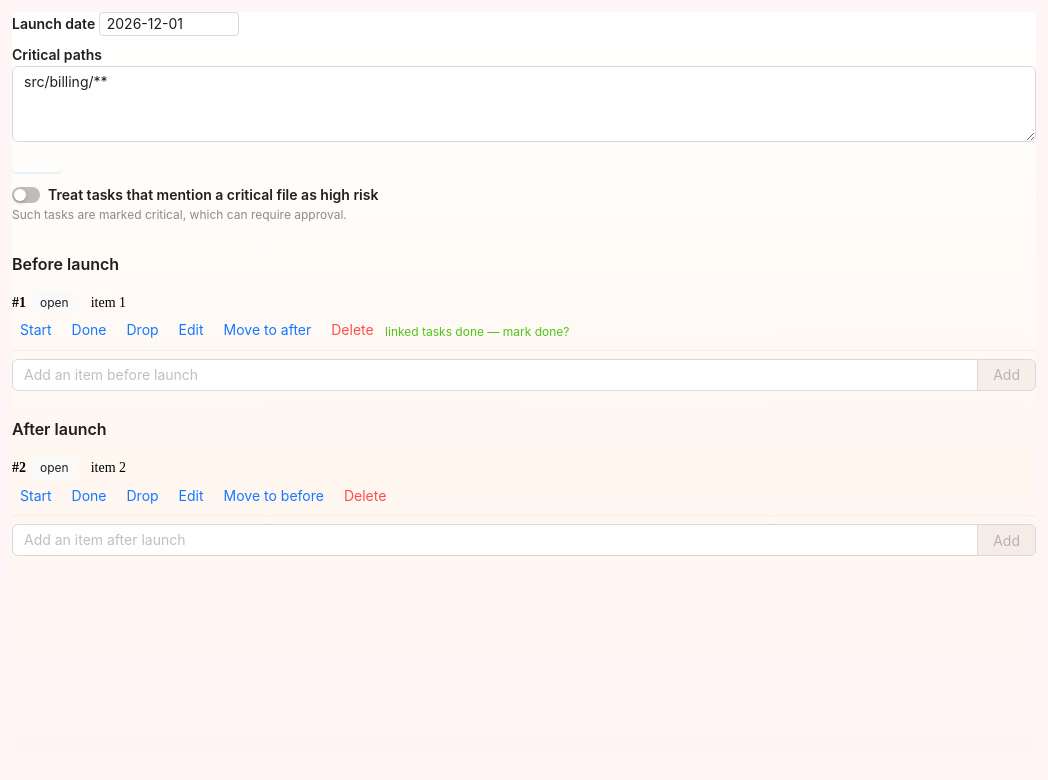
LaunchTab › a 409 reloads and shows the message
The width and height of the screenshot is (1048, 780).
Click the button "Done" in the row of "linked tasks done — mark done?". click: (89, 330)
box: [64, 318, 114, 342]
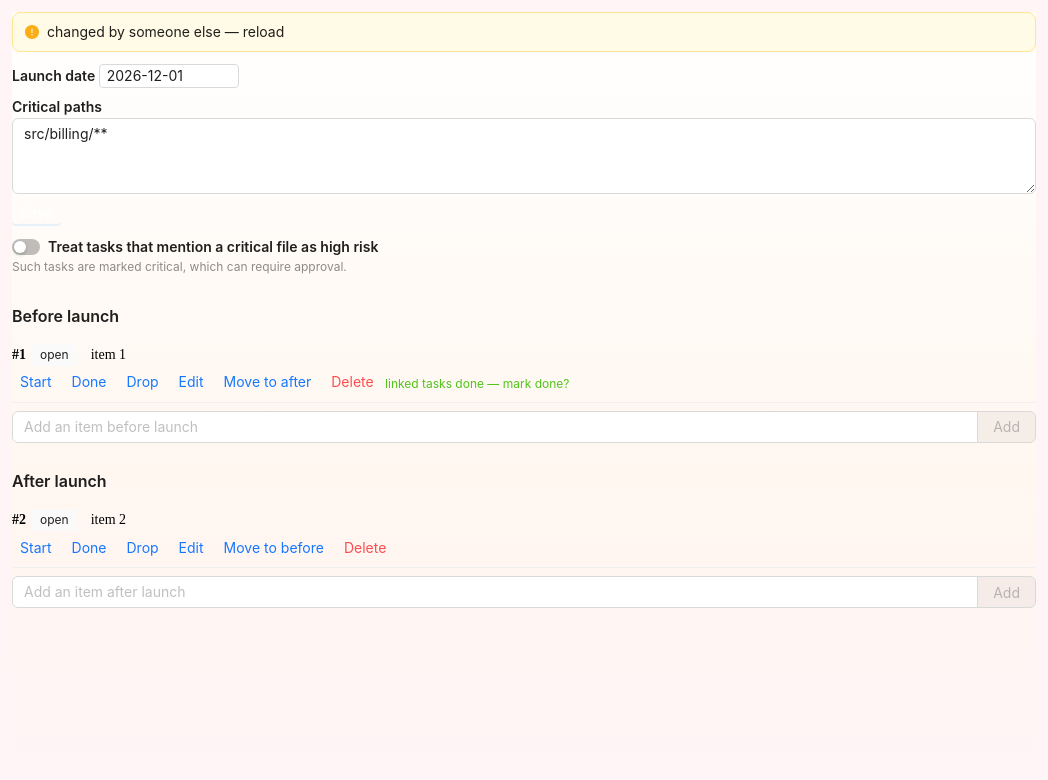
Expected: the message "changed by someone else — reload" is shown, [12, 12, 1036, 52]
